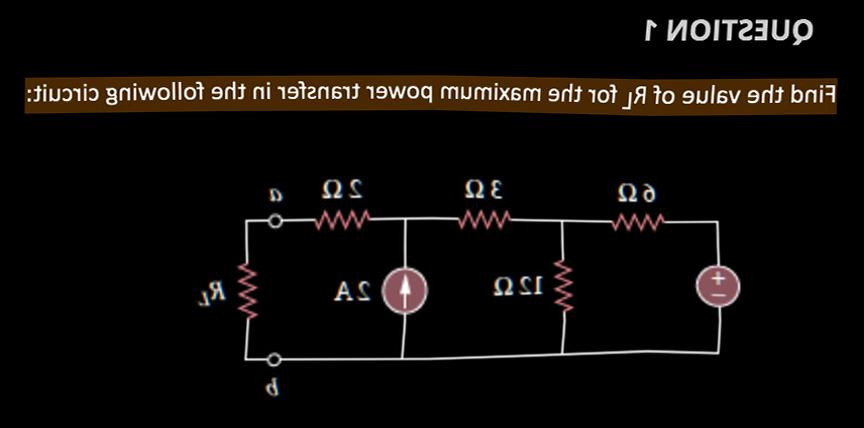Battery: (673, 252, 755, 326)
